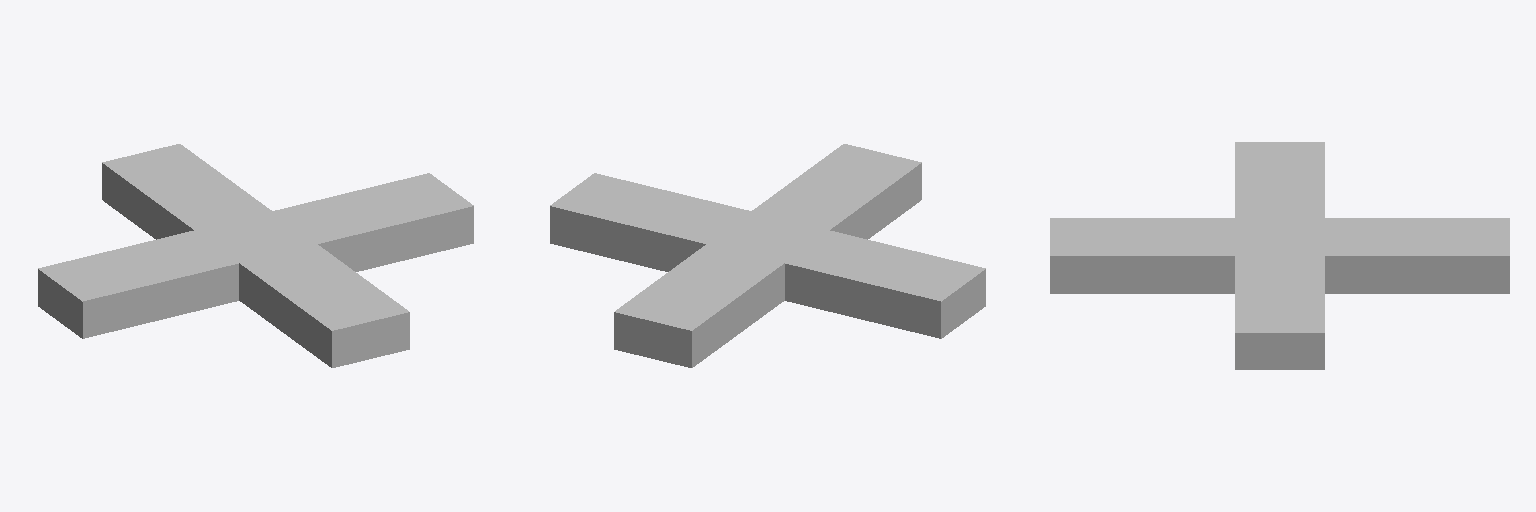
The model's file is intersección.obj.
The picture shows the model from 3 angles: view 1: azimuth 30°, elevation 25°; view 2: azimuth 150°, elevation 25°; view 3: azimuth 270°, elevation 25°; orthographic projection.
Visible parts, largest first — view 1: Intersección_Cube.005; view 2: Intersección_Cube.005; view 3: Intersección_Cube.005.
Part boxes in pixels (x1,y1,x2,y2): Intersección_Cube.005: (38,144,473,367); Intersección_Cube.005: (550,144,985,367); Intersección_Cube.005: (1050,142,1509,369).
Bounding box in the file's own units: 3.34 × 0.3055 × 3.4.